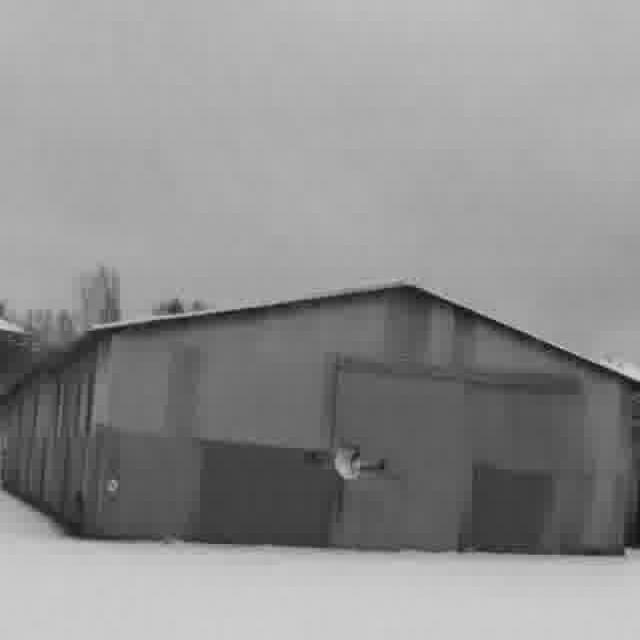drones: (302, 438, 388, 514)
